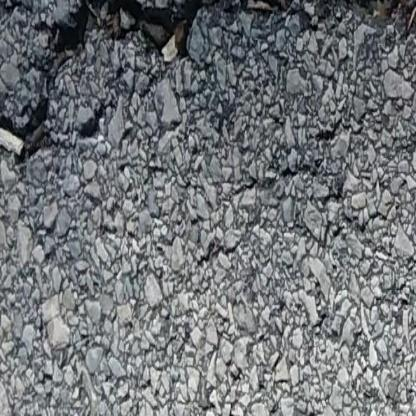Cracks: (0, 0, 416, 170)
